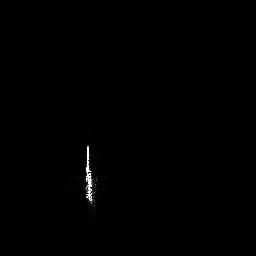ship: (83, 143, 98, 211)
